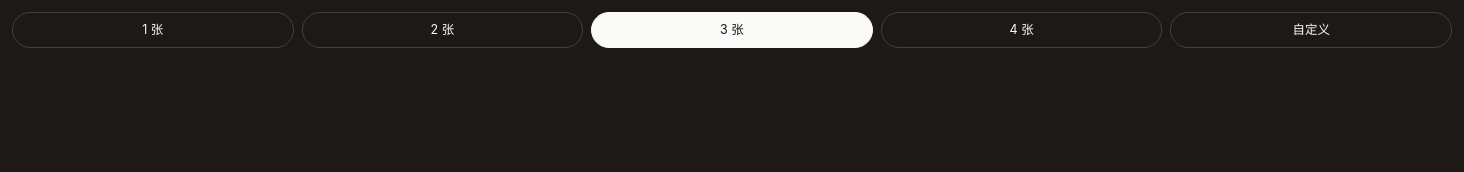
QuickPillRow（D12 快选+自定义按钮） › 当前值不在快选档：自定义 pill 选中并带值
Click the button "自定义" at (1311, 30), box 1170,12 -> 1452,48
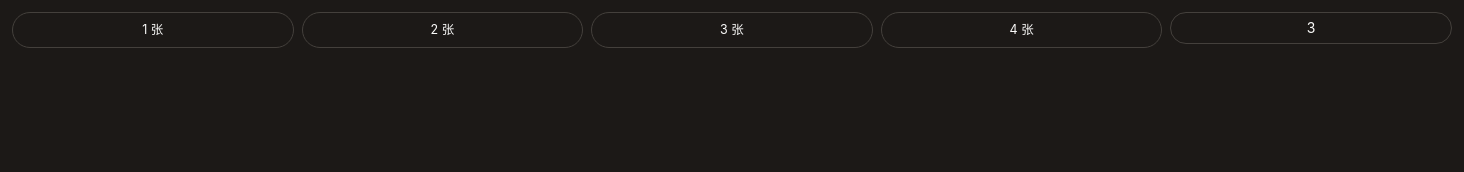
Replace the text in the number field showing "3" with "7" at (1311, 28), box 1171,18 -> 1451,38
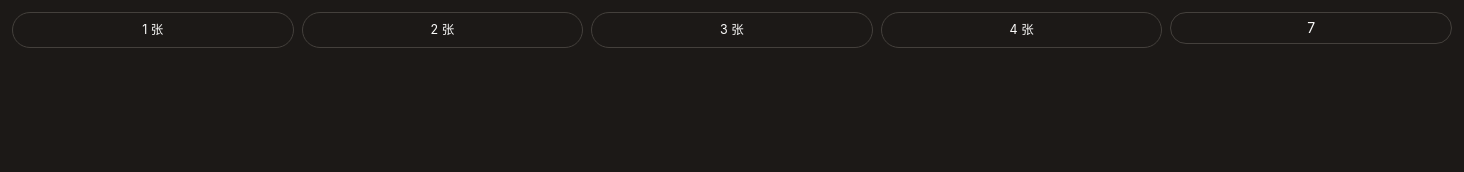
Leave the number field showing "7", box 1171,18 -> 1451,38
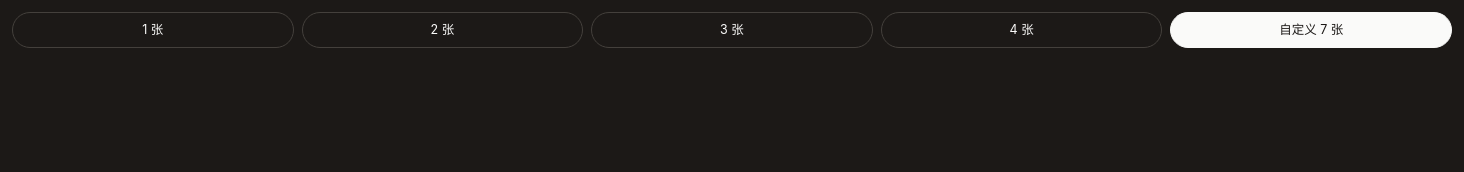
Expected: the text "自定义 7 张" is shown, 1279,22 -> 1343,37
